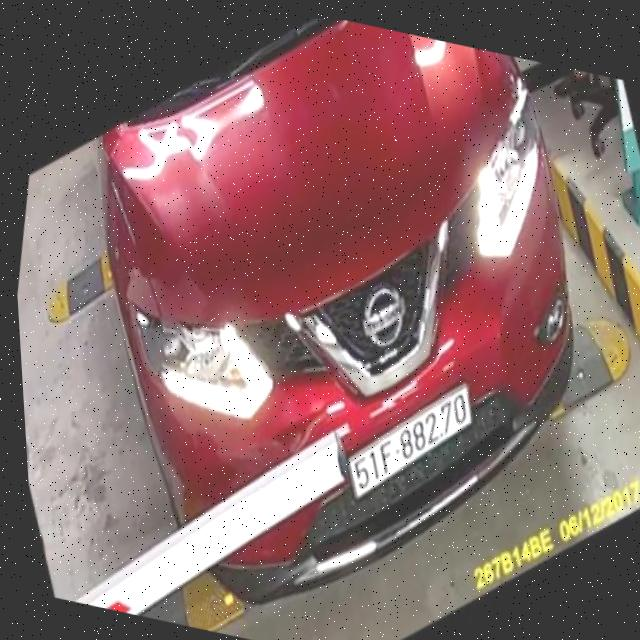car: (21, 1, 640, 640)
plate: (334, 355, 492, 527)
